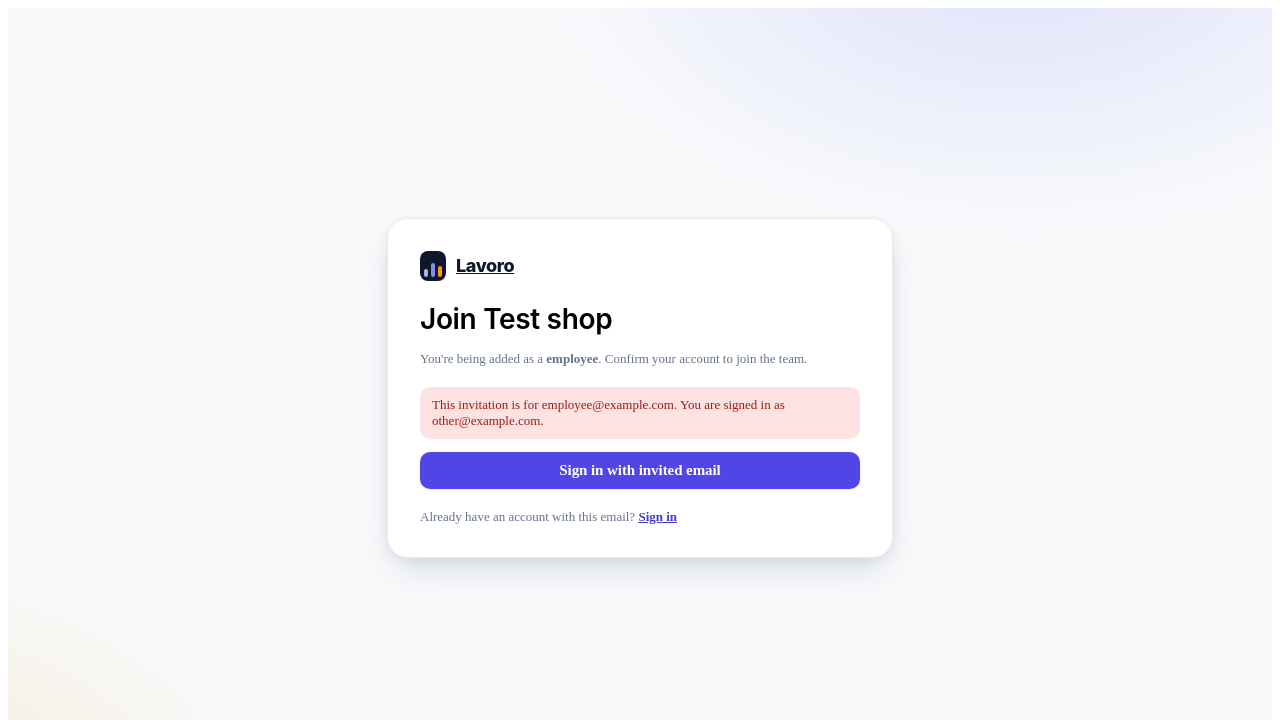
it: invitation edge cases › reports failed account switching and retains the invitation
Later steps or results of the test are not shown.
Expected: the heading "Join Test shop" is shown, [420,302,612,336]
Click the button "Sign in with invited email" at (640, 470), box [420,452,860,489]
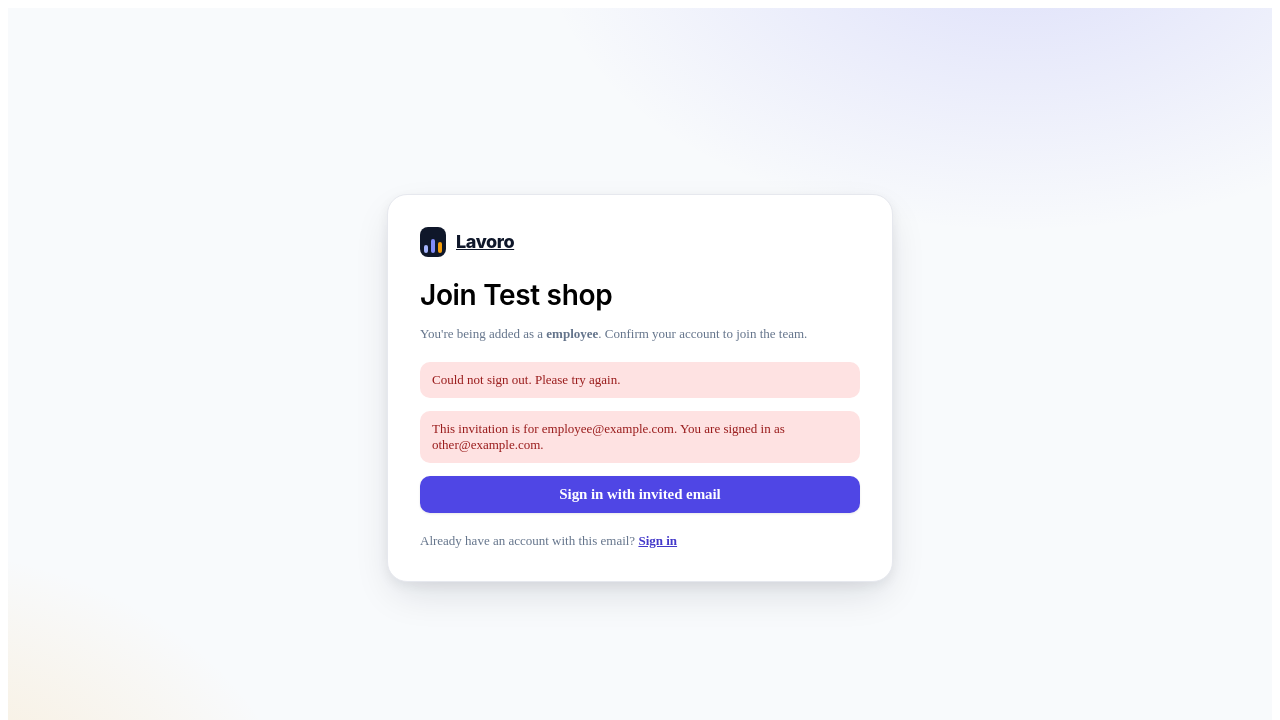
Expected: the message "Could not sign out. Please try again." is shown, [420,362,860,398]
